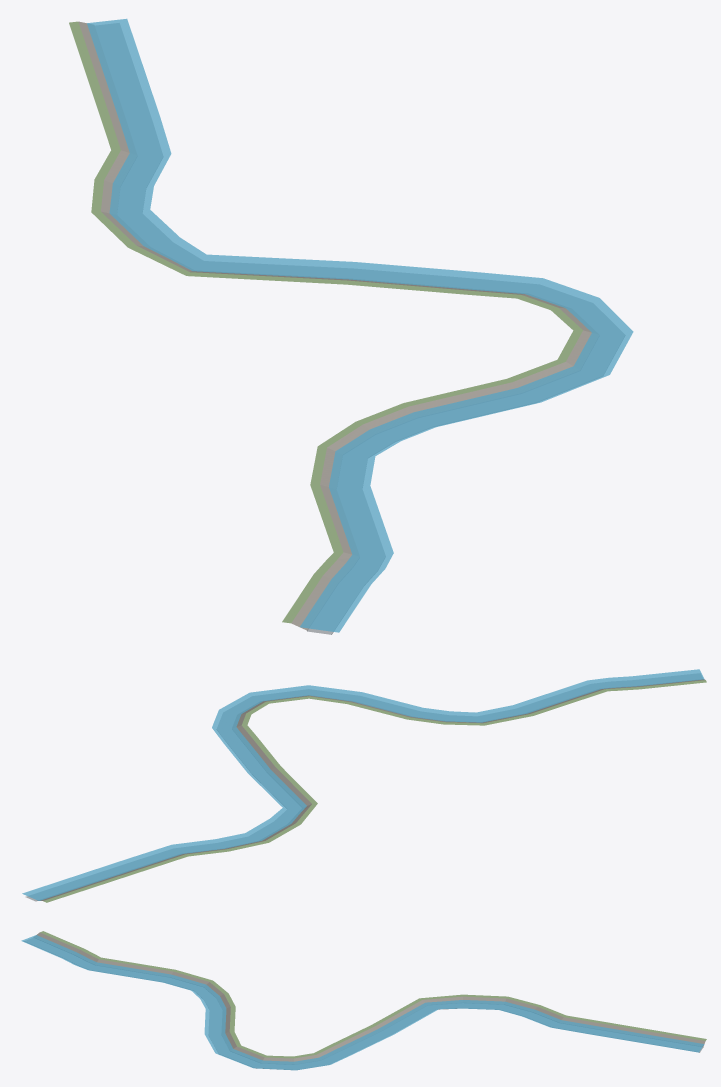
Rendered from corridor-07.glb.
3 views of the same model, one above another, from view 1: azimuth 30°, elevation 25°; view 2: azimuth 150°, elevation 25°; view 3: azimuth 270°, elevation 25° (orthographic). The views are drawn at different scales.
Visible parts, largest first — view 1: water_water, concreteDark_terrain, rock_terrain, grass_terrain; view 2: water_water, concreteDark_terrain, grass_terrain, rock_terrain; view 3: water_water, concreteDark_terrain, rock_terrain, grass_terrain.
Boxes of the visible parts, x1,y1,x2,y2 form: water_water: [87, 18, 633, 632]; concreteDark_terrain: [95, 23, 624, 634]; rock_terrain: [78, 21, 598, 630]; grass_terrain: [69, 21, 582, 623]; water_water: [22, 669, 704, 900]; concreteDark_terrain: [25, 673, 702, 901]; grass_terrain: [43, 680, 706, 902]; rock_terrain: [37, 679, 704, 900]; water_water: [21, 935, 704, 1070]; concreteDark_terrain: [24, 938, 703, 1069]; rock_terrain: [34, 932, 705, 1063]; grass_terrain: [40, 931, 706, 1058].
Bounding box in the file's own units: 2079 × 33.31 × 4253.
4 materials, 4 textured.
